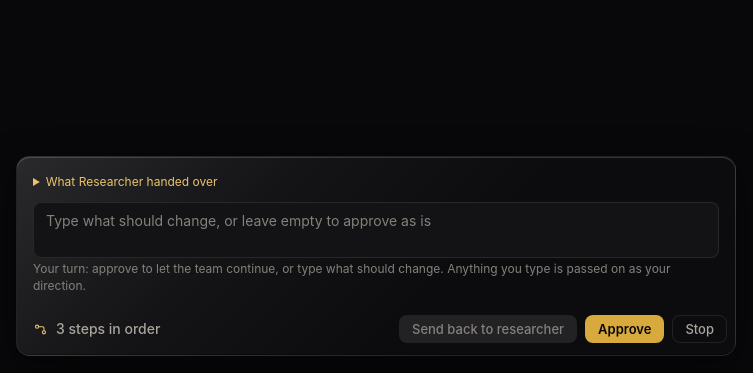
Test case: shows what the stage handed over as formatted Markdown, never as HTML
Click the heading "What Researcher handed over".
click(132, 182)  # box [46,174,218,189]
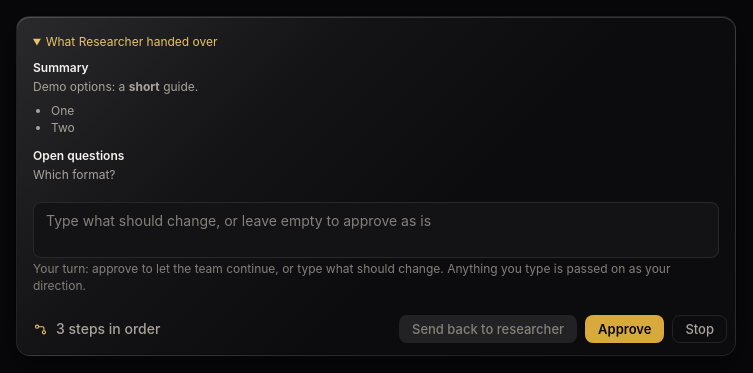
Now the heading "Summary" is shown, box [33,60,89,75]
Now the heading "Open questions" is shown, box [33,148,124,163]
Now the list items read "One", "Two", in this order, box [51,103,74,118]; [51,120,75,135]
